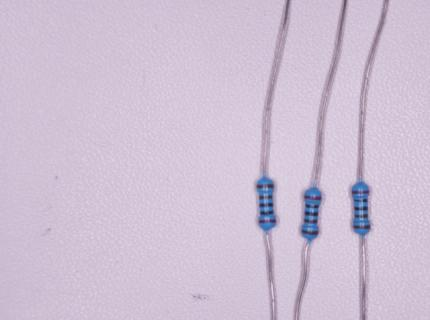Black band: (305, 203, 319, 209), (259, 202, 273, 208), (304, 211, 319, 216), (260, 211, 274, 216), (354, 207, 368, 211), (354, 199, 368, 203)
Brown band: (256, 184, 274, 189), (301, 230, 319, 235), (353, 225, 371, 229), (259, 195, 273, 200), (304, 219, 318, 223), (354, 214, 368, 218)
Red band: (304, 195, 322, 201), (259, 219, 277, 224), (351, 191, 370, 194)
